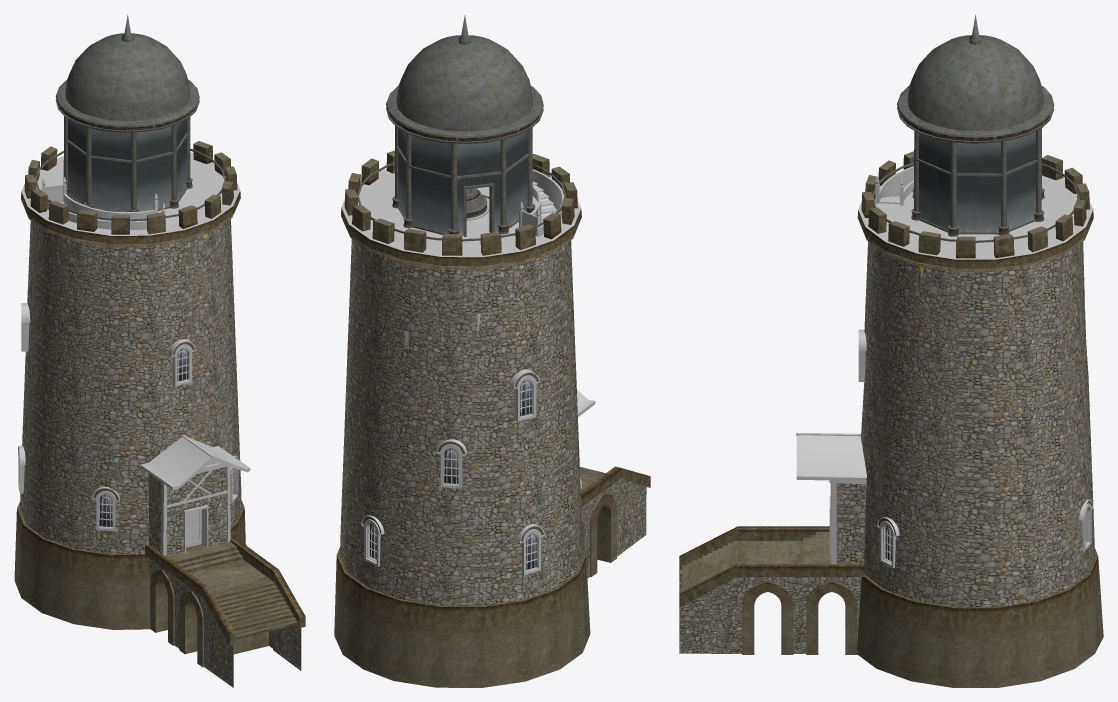
The model's file is port_lighthouse_founder_village.FBX.
The picture shows the model from 3 angles, left to right: view 1: azimuth 30°, elevation 25°; view 2: azimuth 150°, elevation 25°; view 3: azimuth 270°, elevation 25°; orthographic projection. The views are drawn at different scales.
Parts seen in each view (by area): view 1: port_lighthouse_founder_village_exterior, port_lighthouse_founder_village_interior, port_lighthouse_founder_village_door; view 2: port_lighthouse_founder_village_exterior, port_lighthouse_founder_village_interior; view 3: port_lighthouse_founder_village_exterior, port_lighthouse_founder_village_interior.
Part boxes in pixels (x1=…): port_lighthouse_founder_village_exterior: x1=14, y1=14, x2=305, y2=687; port_lighthouse_founder_village_interior: x1=41, y1=177, x2=165, y2=229; port_lighthouse_founder_village_door: x1=186, y1=510, x2=201, y2=547; port_lighthouse_founder_village_exterior: x1=334, y1=15, x2=650, y2=687; port_lighthouse_founder_village_interior: x1=404, y1=169, x2=564, y2=349; port_lighthouse_founder_village_exterior: x1=679, y1=15, x2=1103, y2=687; port_lighthouse_founder_village_interior: x1=875, y1=166, x2=1084, y2=311.
Size of what is drawn, in the model's own units: 1405 by 3836 by 2381.
